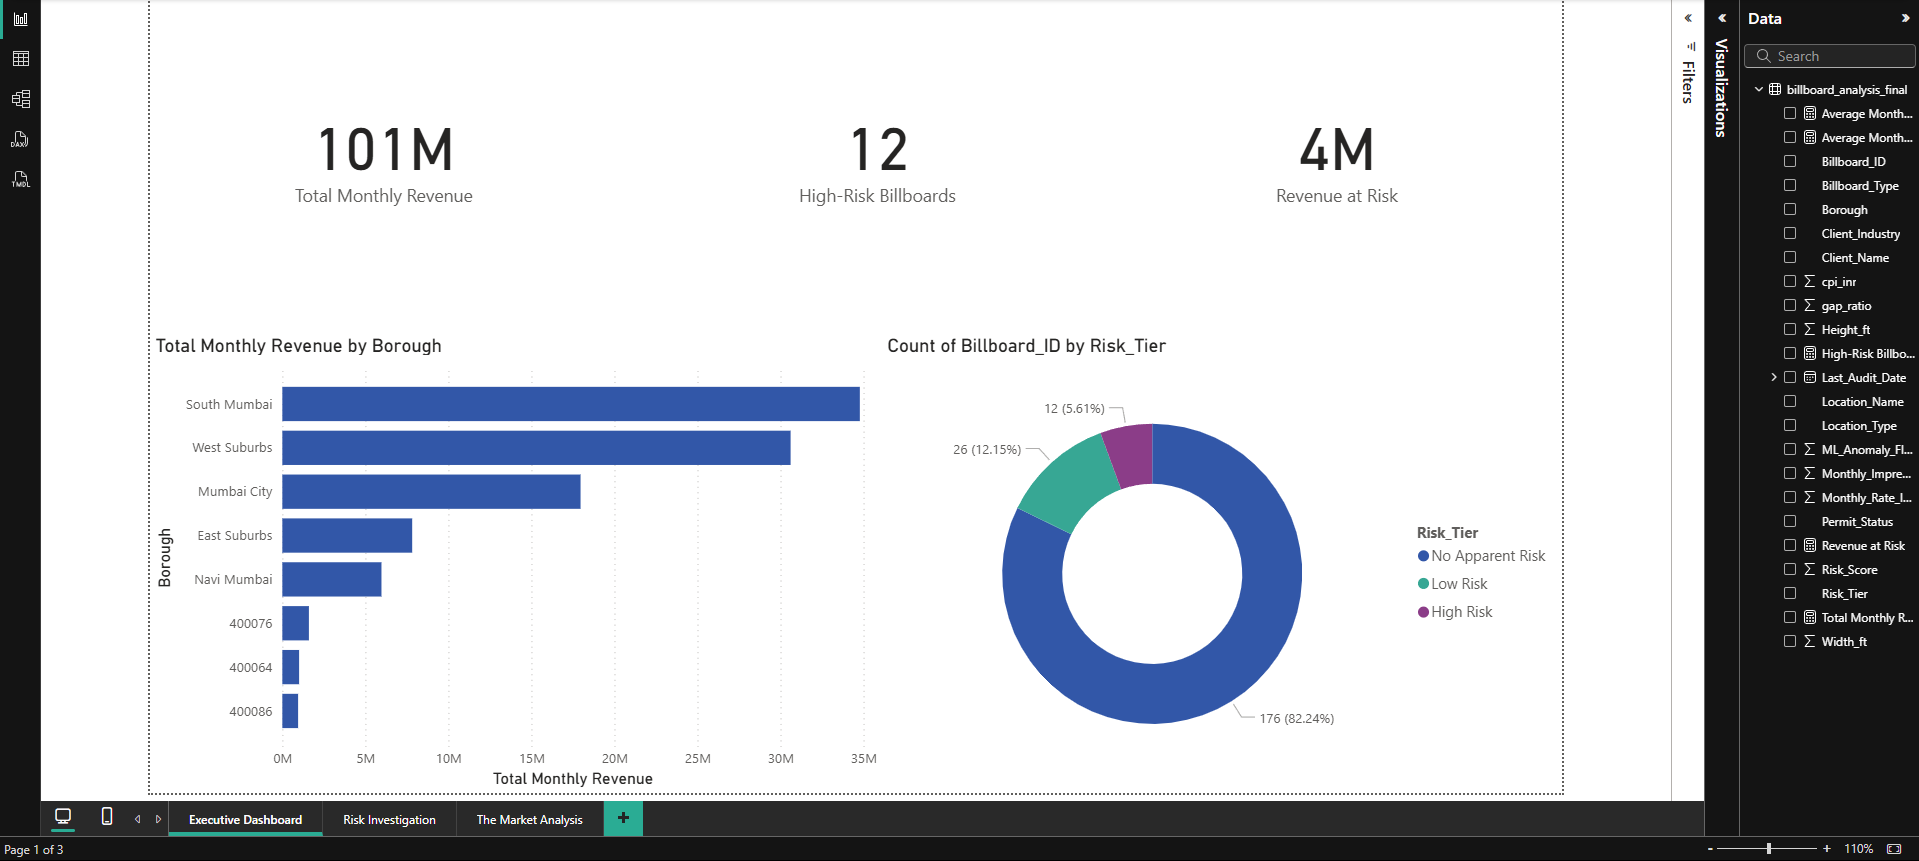

What the dashboard file says about the page in this screenshot:
{"tool":"powerbi","page":{"name":"Executive Dashboard ","canvas":[1280,720],"ordinal":0},"visuals":[{"type":"card","fields":{"Values":["billboard_analysis_final.Total Monthly Revenue"]},"box":[0,0,424,280],"z":0},{"type":"card","fields":{"Values":["billboard_analysis_final.Revenue at Risk"]},"box":[872,0,408,280],"z":1000},{"type":"card","fields":{"Values":["billboard_analysis_final.High-Risk Billboards"]},"box":[520,0,280,280],"z":3000},{"type":"donutChart","fields":{"Category":["billboard_analysis_final.Risk_Tier"],"Y":["CountNonNull(billboard_analysis_final.Billboard_ID)"]},"box":[664,304,616,416],"z":4000},{"type":"barChart","fields":{"Category":["billboard_analysis_final.Borough"],"Y":["billboard_analysis_final.Total Monthly Revenue"]},"box":[0,304,664,416],"z":5000}]}

Visuals, with their boxes on the page's 1280x720 design canvas (x1, y1, x2, y2). These are canvas units, not pixel positions in the 1919x861 screenshot, which may show the page scaled, cropped or inside an application window:
card - billboard_analysis_final.Total Monthly Revenue: left=0, top=0, right=424, bottom=280
card - billboard_analysis_final.Revenue at Risk: left=872, top=0, right=1280, bottom=280
card - billboard_analysis_final.High-Risk Billboards: left=520, top=0, right=800, bottom=280
donutChart - billboard_analysis_final.Risk_Tier x CountNonNull(billboard_analysis_final.Billboard_ID): left=664, top=304, right=1280, bottom=720
barChart - billboard_analysis_final.Borough x billboard_analysis_final.Total Monthly Revenue: left=0, top=304, right=664, bottom=720
